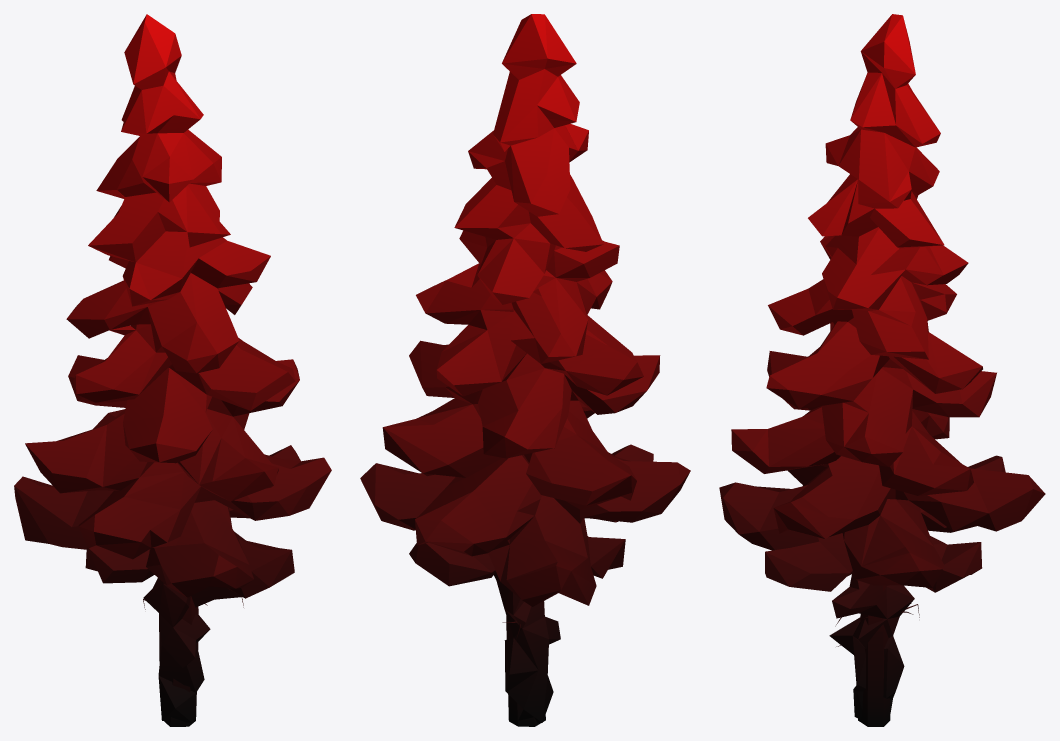
File: TreeSpruce04_Snow.fbx
3 renders of one model, left to right at view 1: azimuth 30°, elevation 25°; view 2: azimuth 150°, elevation 25°; view 3: azimuth 270°, elevation 25°, orthographic. The views are drawn at different scales.
Visible parts, largest first — view 1: TreeSpruce04_Snow_LOD0; view 2: TreeSpruce04_Snow_LOD0; view 3: TreeSpruce04_Snow_LOD0.
Part boxes in pixels (x1=…): TreeSpruce04_Snow_LOD0: x1=14, y1=14, x2=331, y2=726; TreeSpruce04_Snow_LOD0: x1=360, y1=14, x2=690, y2=726; TreeSpruce04_Snow_LOD0: x1=719, y1=14, x2=1045, y2=726.
Size of what is drawn, in the model's own units: 130 by 326 by 139.
